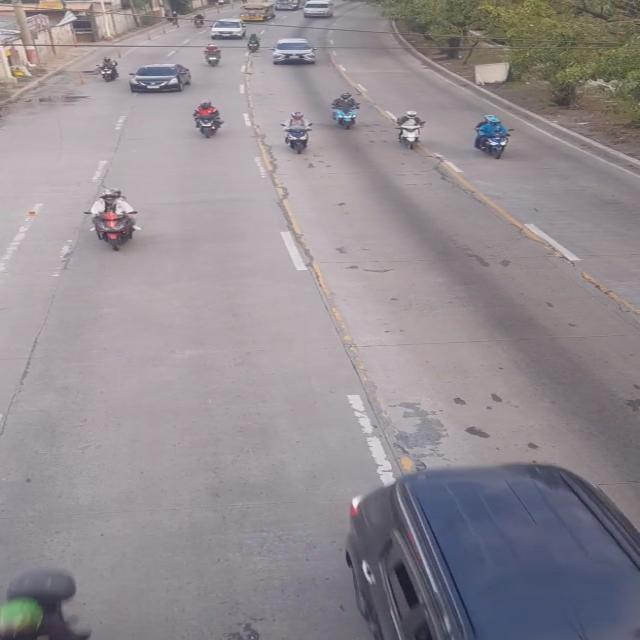car: (341, 459, 640, 640), (129, 63, 192, 95), (266, 36, 323, 66)
motorbike: (90, 180, 139, 256), (474, 115, 514, 156), (193, 100, 223, 142), (285, 111, 310, 156), (397, 110, 421, 154), (327, 94, 360, 126), (97, 49, 118, 84), (200, 44, 227, 67)
